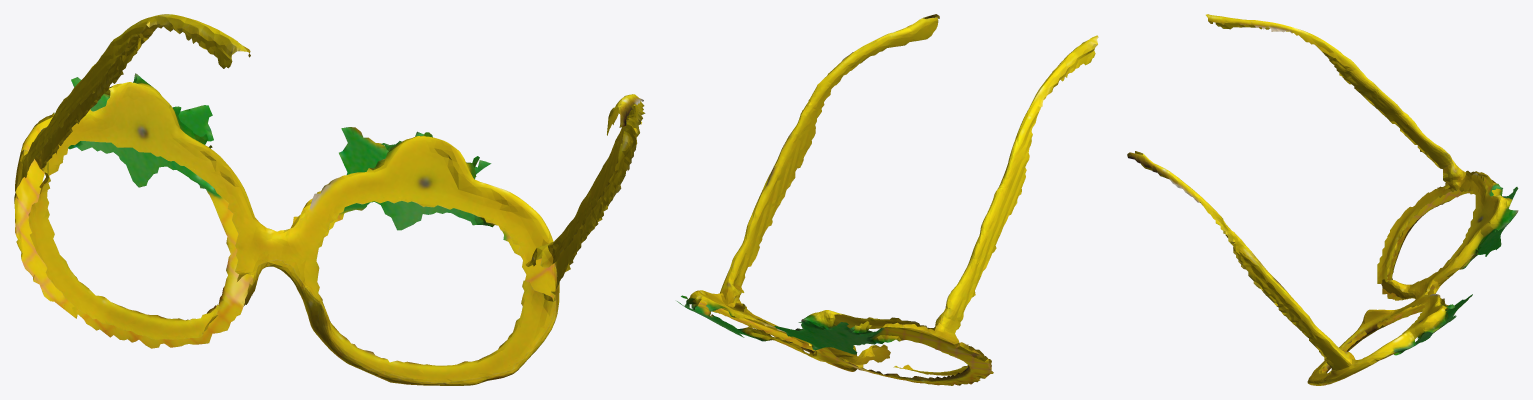
The model's file is eyeglasses2.obj.
3 views of the same model, side by side, from view 1: azimuth 30°, elevation 25°; view 2: azimuth 150°, elevation 25°; view 3: azimuth 270°, elevation 25° (orthographic). The views are drawn at different scales.
Size of the model in its own units: 124 by 120 by 155.
1 material, 1 textured.
